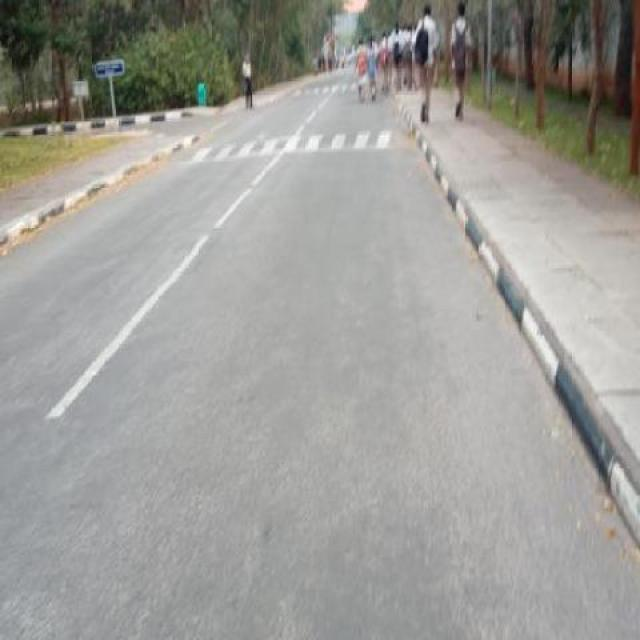Speed Bump: (177, 130, 411, 162)
